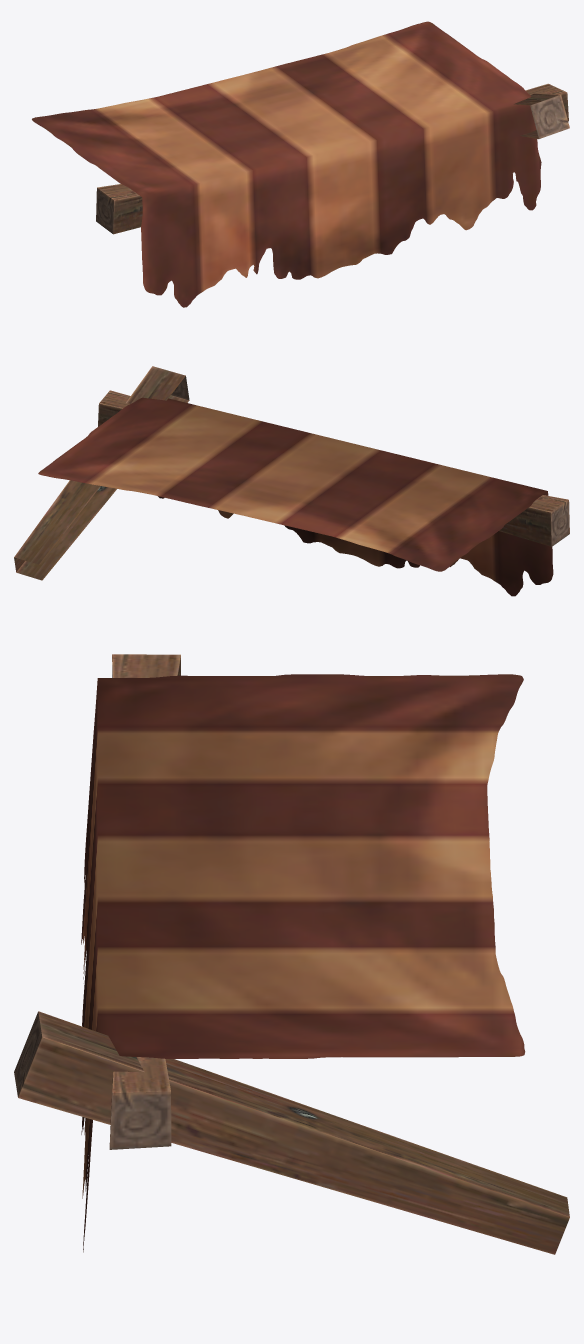
The model's file is building_city_zhuchengbu.FBX.
3 renders of one model, top to bottom at view 1: azimuth 30°, elevation 25°; view 2: azimuth 150°, elevation 25°; view 3: azimuth 270°, elevation 25°, orthographic. The views are drawn at different scales.
Parts seen in each view (by area): view 1: Plane09; view 2: Plane09; view 3: Plane09.
Part boxes in pixels (<box>): Plane09: <box>32,21,569,307</box>; Plane09: <box>14,366,569,596</box>; Plane09: <box>14,654,569,1254</box>.
Size of the model in its own units: 4.47 by 2.41 by 1.38.
